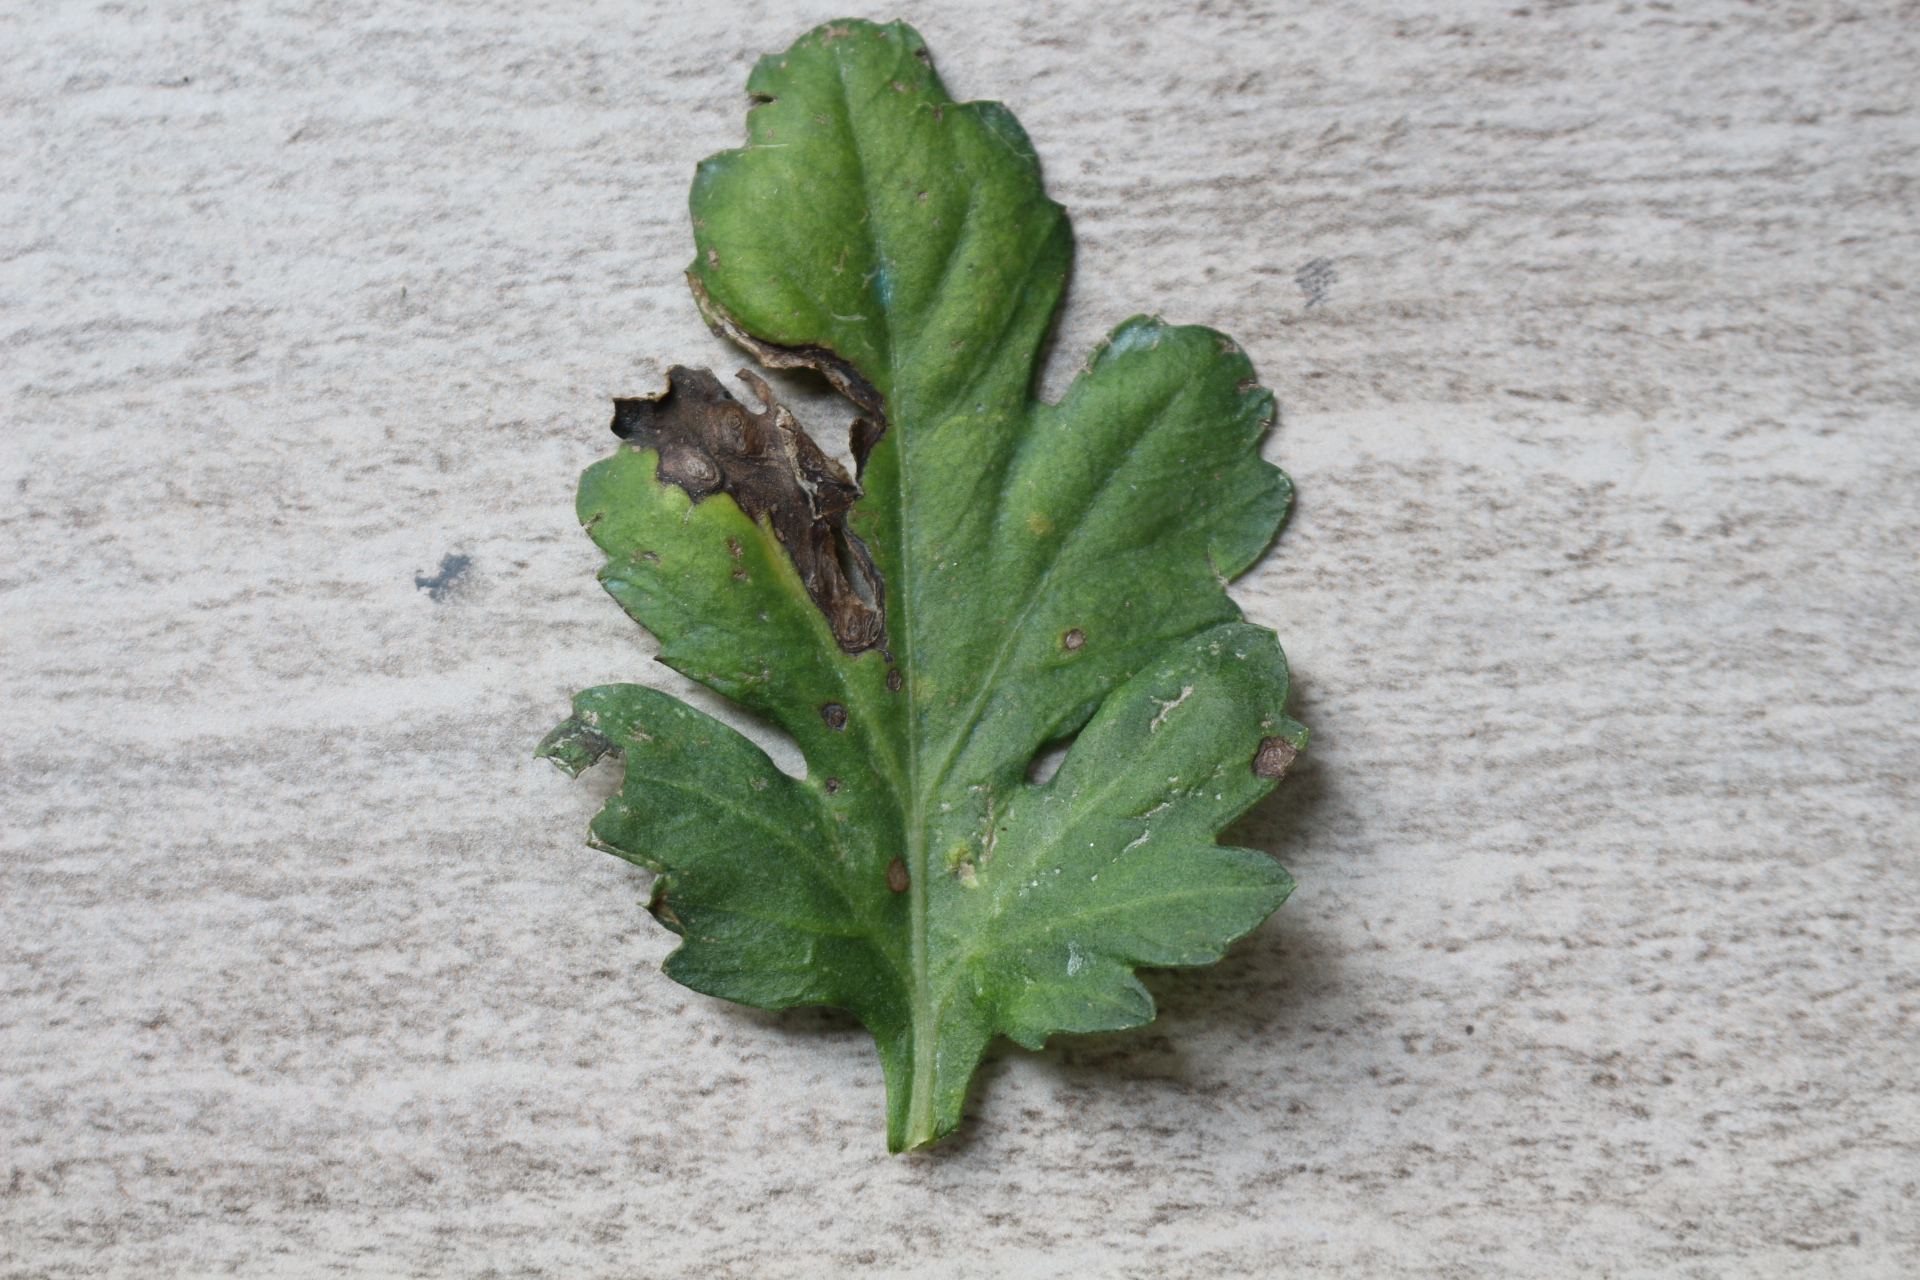namden: (1254, 731, 1301, 791), (883, 849, 916, 906), (1054, 626, 1089, 657), (821, 700, 851, 734)
